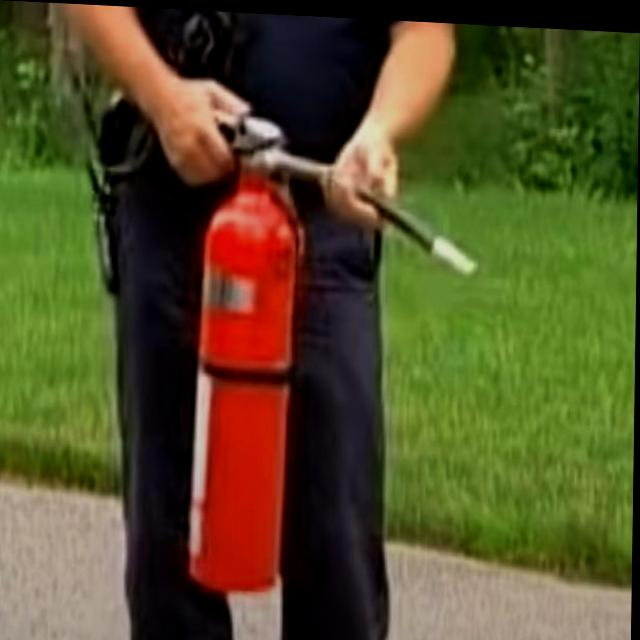FireExtinguisher: (176, 100, 484, 602)
